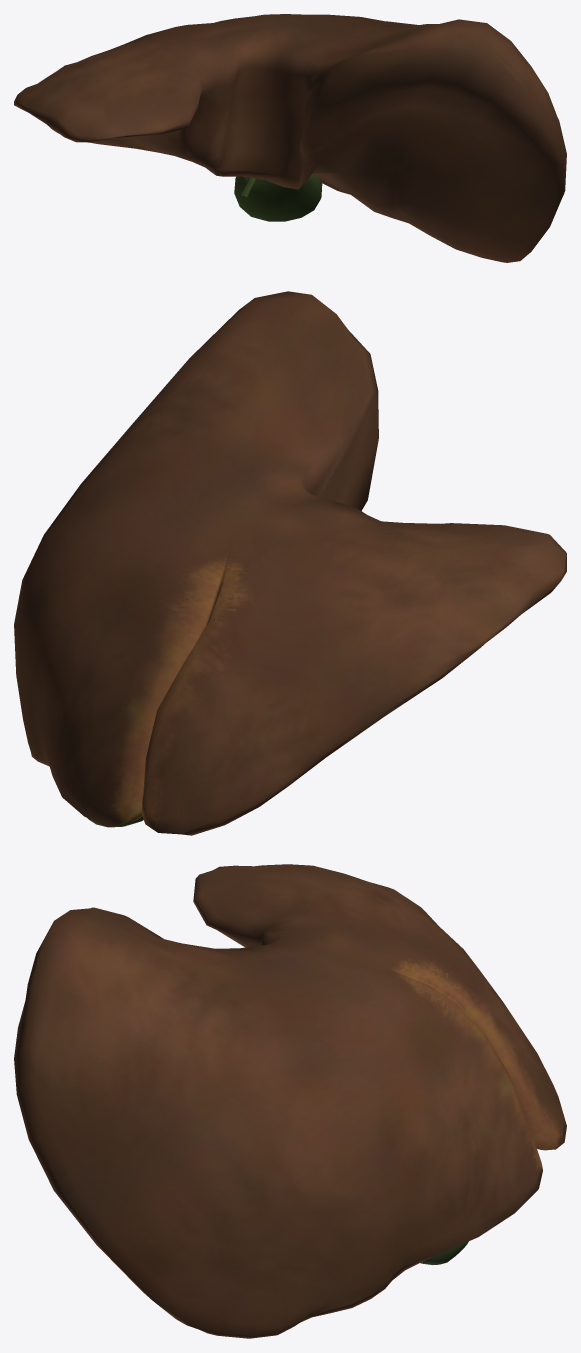
Rendered from liver.glb.
3 renders of one model, top to bottom at view 1: azimuth 30°, elevation 25°; view 2: azimuth 150°, elevation 25°; view 3: azimuth 270°, elevation 25°, orthographic. The views are drawn at different scales.
Parts seen in each view (by area): view 1: node_Liver_-994_1, node_Group53789_10674_2; view 2: node_Liver_-994_1; view 3: node_Liver_-994_1.
Part boxes in pixels (x1=…): node_Liver_-994_1: x1=14, y1=14, x2=566, y2=262; node_Group53789_10674_2: x1=234, y1=174, x2=322, y2=221; node_Liver_-994_1: x1=14, y1=291, x2=566, y2=835; node_Liver_-994_1: x1=14, y1=864, x2=566, y2=1338.
Bounding box in the file's own units: 1.44 × 1.02 × 1.45.
Materials: 2 (2 with a texture image).
